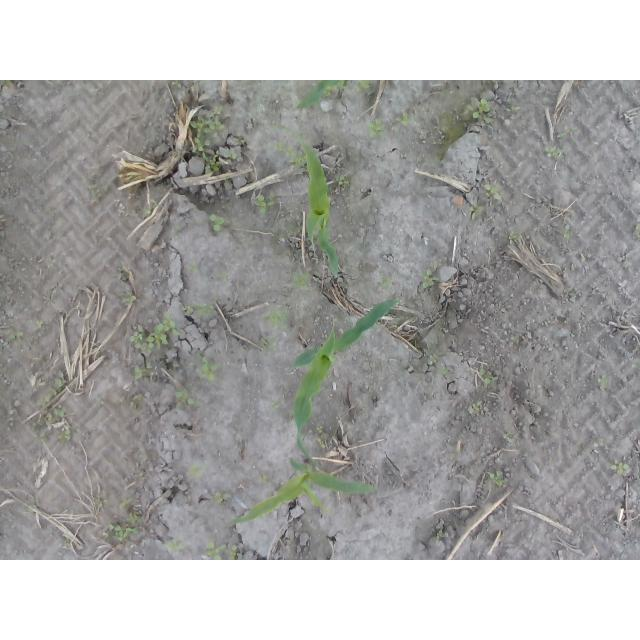Maize: (291, 298, 405, 468), (271, 122, 341, 278), (227, 456, 378, 526), (295, 80, 350, 112)
Weeds: (189, 108, 239, 177), (37, 370, 75, 442), (130, 315, 179, 353), (101, 522, 139, 542), (204, 544, 242, 561), (120, 497, 141, 527), (195, 357, 220, 380), (472, 99, 493, 125), (478, 369, 500, 391), (422, 265, 439, 291), (266, 309, 287, 330), (253, 195, 275, 214), (135, 363, 155, 383), (369, 119, 387, 141), (183, 305, 212, 317), (485, 183, 503, 202), (186, 462, 206, 479), (396, 108, 414, 125), (210, 215, 226, 234), (175, 393, 195, 407), (612, 461, 631, 475), (294, 273, 310, 288), (488, 471, 502, 488), (353, 80, 372, 92), (547, 147, 566, 158), (261, 336, 275, 349), (470, 401, 483, 415), (132, 393, 144, 407), (471, 207, 486, 218), (601, 373, 610, 391), (216, 491, 229, 503), (169, 541, 186, 550), (336, 175, 348, 186), (11, 330, 25, 339), (125, 294, 138, 303), (383, 277, 392, 287), (173, 81, 184, 88)
